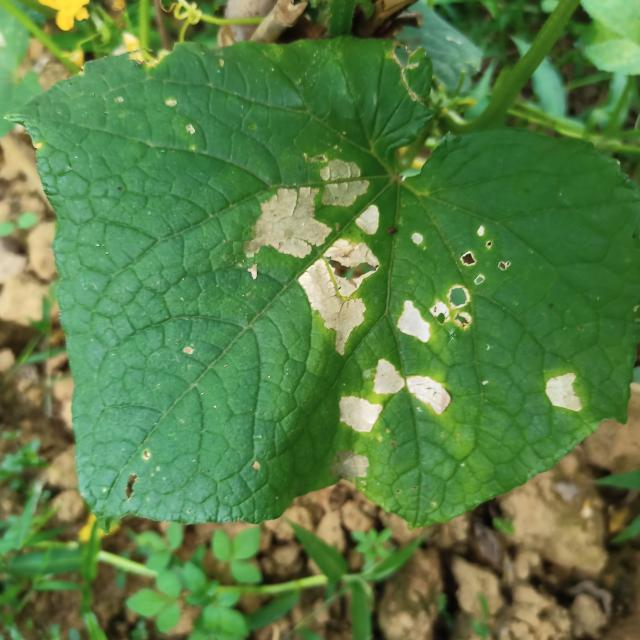disease_cucumber: (239, 147, 381, 360), (327, 358, 458, 432), (393, 276, 483, 353), (404, 222, 511, 284), (540, 368, 585, 416)
